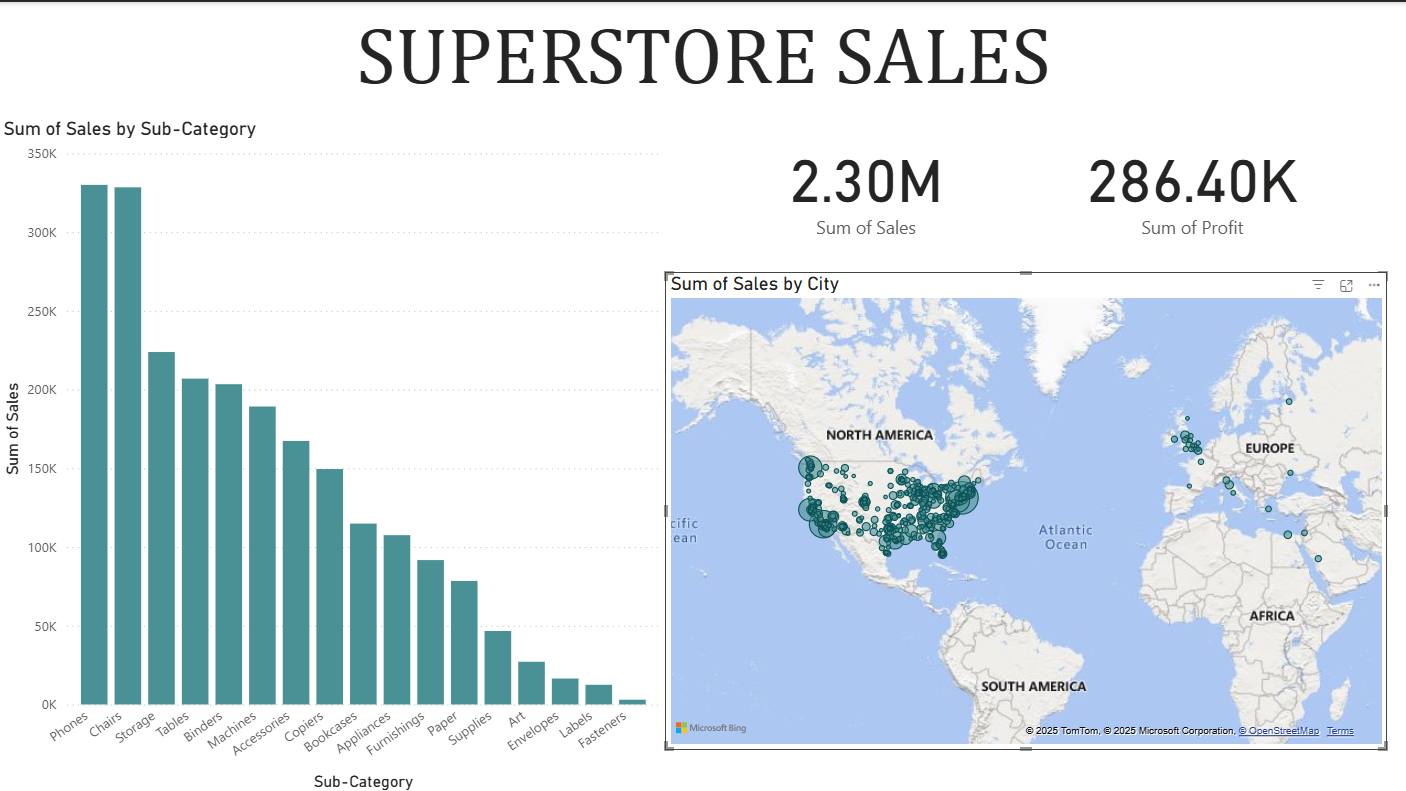

This screenshot's page, from the dashboard's own definition file:
{"tool":"powerbi","page":{"name":"Page 1","canvas":[1280,720],"ordinal":0},"visuals":[{"type":"card","fields":{"Values":["Sum(Orders.Profit)"]},"box":[943.1,83.4,280.2,165],"z":0},{"type":"card","fields":{"Values":["Sum(Orders.Sales)"]},"box":[640.2,83.4,293.8,165],"z":1000},{"type":"columnChart","fields":{"Category":["Orders.Sub-Category"],"Y":["Sum(Orders.Sales)"]},"box":[0,104.3,604.8,615.7],"z":2000},{"type":"map","fields":{"Category":["Orders.City"],"Size":["Sum(Orders.Sales)"]},"box":[604.8,244.8,654.7,433.5],"z":3000},{"type":"textbox","box":[0,0,1280,104.1],"z":4000}]}

Visuals, with their boxes in screenshot pixels (x1, y1, x2, y2), scaled from the page's 1280x720 canvas onto the 1406x791 screenshot:
card - Sum(Orders.Profit): 1036,92,1344,273
card - Sum(Orders.Sales): 703,92,1026,273
columnChart - Orders.Sub-Category x Sum(Orders.Sales): 0,115,664,790
map - Orders.City x Sum(Orders.Sales): 664,269,1383,745
textbox: 0,0,1405,114
